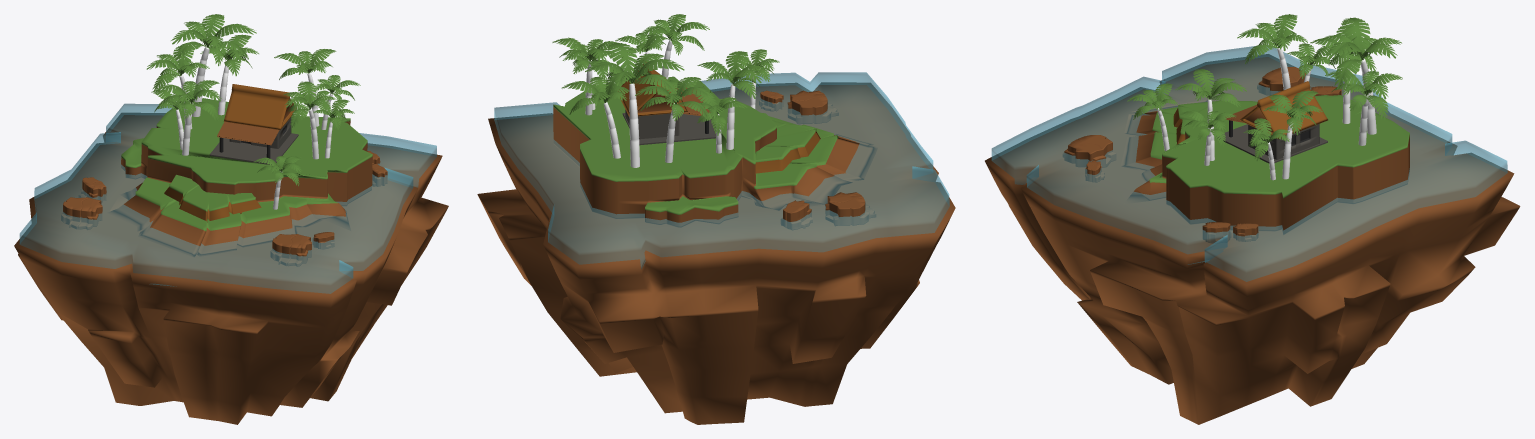
The model's file is Island.glb.
3 renders of one model, left to right at view 1: azimuth 30°, elevation 25°; view 2: azimuth 150°, elevation 25°; view 3: azimuth 270°, elevation 25°, orthographic. The views are drawn at different scales.
Visible parts, largest first — view 1: Cube.101, Cube.116, Cube.103, Plane.359, Cube.107, Cube.105, Cylinder.089, Cube.114, Cube.113, Cube.108, Cube.109, Cube.106 (+1 smaller); view 2: Cube.101, Cube.116, Cube.103, Plane.359, Cylinder.089, Cube.114, Cube.105, Cube.113, Cube.107, Cube.108, Cube.106; view 3: Cube.101, Cube.116, Cube.103, Plane.359, Cylinder.089, Cube.107, Cube.113, Cube.114, Cube.106, Cube.111, Cube.108, Cube.105.
Boxes of the visible parts, bbox=[...] form: Cube.101: bbox=[14, 113, 448, 424]; Cube.116: bbox=[19, 103, 436, 293]; Cube.103: bbox=[107, 98, 372, 256]; Plane.359: bbox=[146, 14, 360, 186]; Cube.107: bbox=[223, 84, 296, 129]; Cube.105: bbox=[164, 174, 261, 222]; Cylinder.089: bbox=[176, 46, 332, 209]; Cube.114: bbox=[61, 177, 106, 229]; Cube.113: bbox=[270, 232, 334, 266]; Cube.108: bbox=[209, 133, 298, 164]; Cube.109: bbox=[217, 121, 279, 145]; Cube.106: bbox=[229, 117, 291, 148]; Cube.101: bbox=[477, 82, 955, 424]; Cube.116: bbox=[494, 72, 949, 269]; Cube.103: bbox=[553, 76, 878, 227]; Plane.359: bbox=[552, 14, 779, 135]; Cylinder.089: bbox=[585, 39, 756, 167]; Cube.114: bbox=[780, 192, 876, 230]; Cube.105: bbox=[755, 120, 820, 173]; Cube.113: bbox=[759, 90, 838, 124]; Cube.107: bbox=[618, 61, 687, 116]; Cube.108: bbox=[622, 113, 715, 145]; Cube.106: bbox=[625, 109, 679, 139]; Cube.101: bbox=[985, 54, 1520, 424]; Cube.116: bbox=[991, 46, 1507, 281]; Cube.103: bbox=[1121, 95, 1409, 234]; Plane.359: bbox=[1127, 14, 1402, 160]; Cylinder.089: bbox=[1157, 48, 1376, 180]; Cube.107: bbox=[1239, 81, 1327, 139]; Cube.113: bbox=[1062, 135, 1116, 182]; Cube.114: bbox=[1257, 67, 1341, 96]; Cube.106: bbox=[1248, 124, 1319, 159]; Cube.111: bbox=[1202, 222, 1258, 243]; Cube.108: bbox=[1216, 124, 1327, 163]; Cube.105: bbox=[1173, 101, 1217, 144].
Size of the model in its own units: 6.8 by 5.14 by 6.82.
